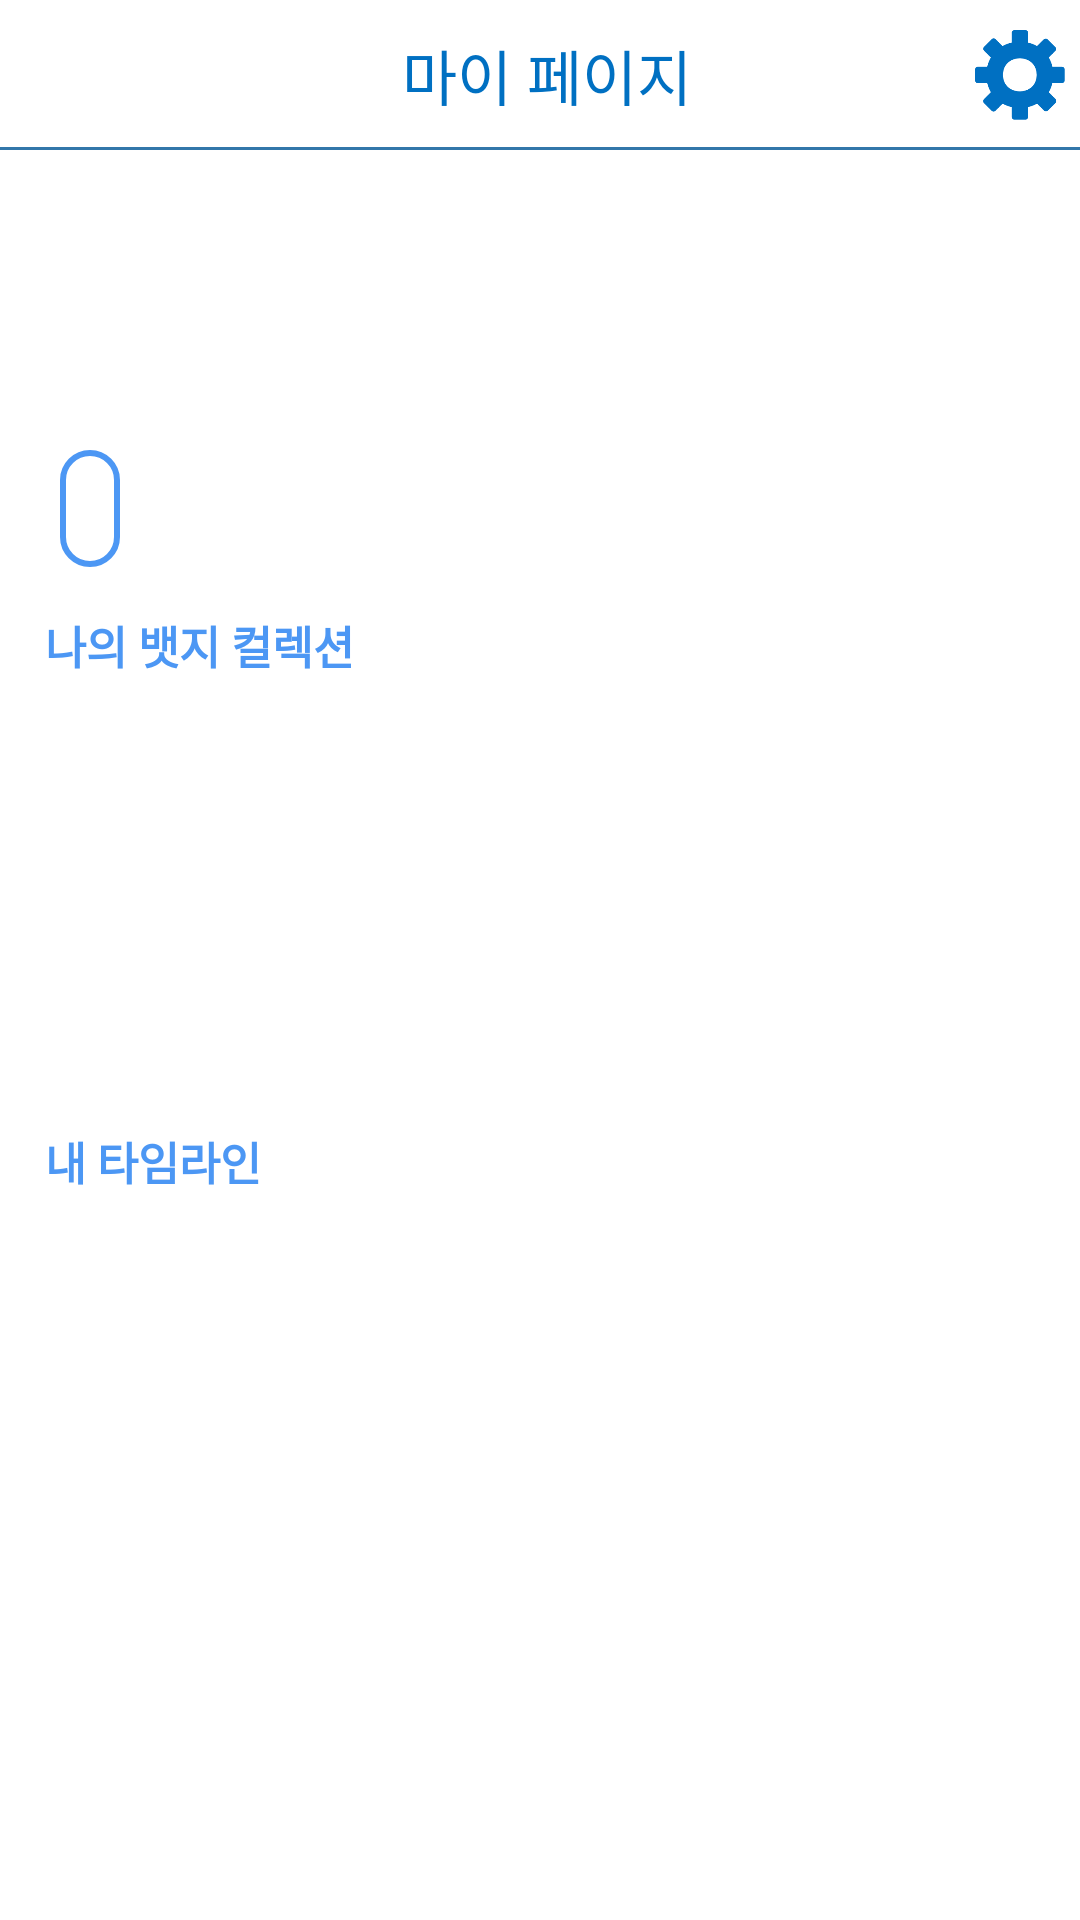

Icon click points for this 1080x1920 phone screenshot, format [x,y]:
setting: [1020,75]
